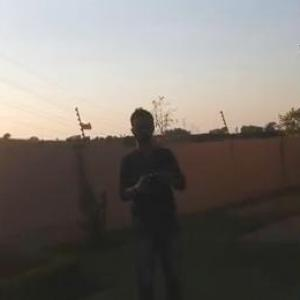follow: (107, 100, 196, 299)
